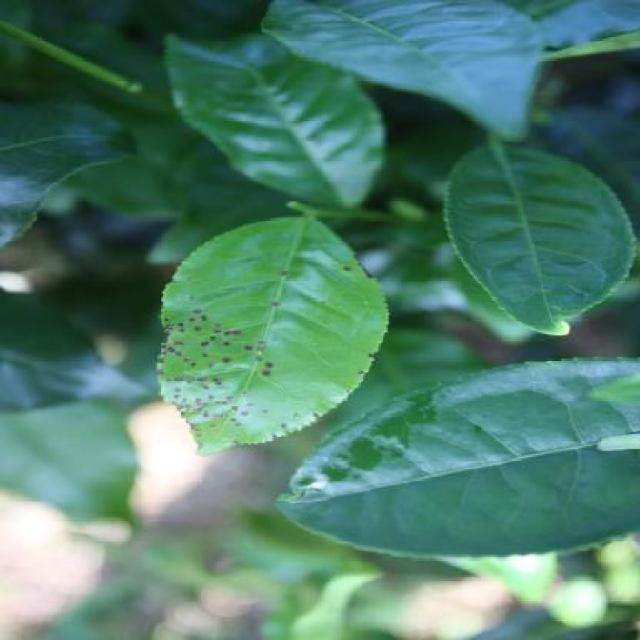Tea Mosquito bug infested leaf: (155, 234, 371, 478)
